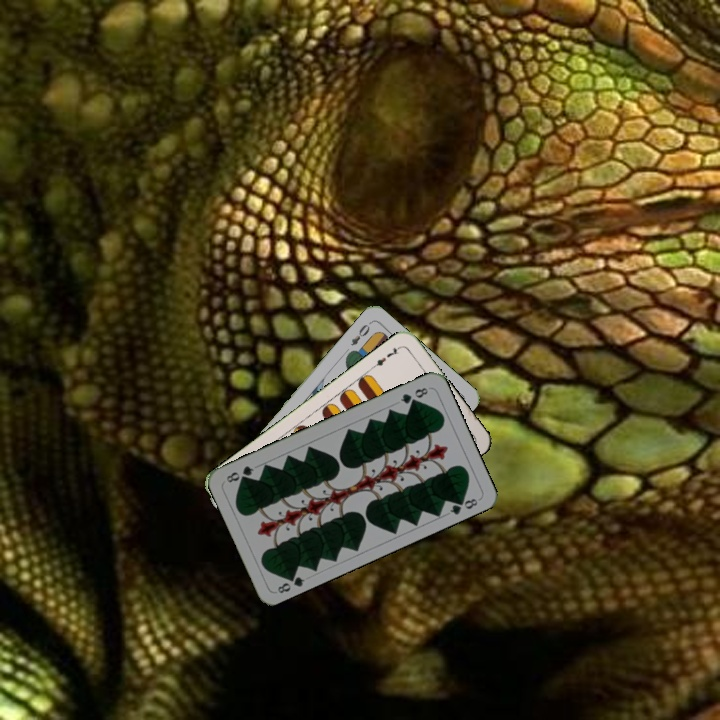E7: (368, 342, 403, 371)
EO: (347, 318, 374, 348)
G8: (273, 569, 307, 596), (396, 383, 431, 407)
